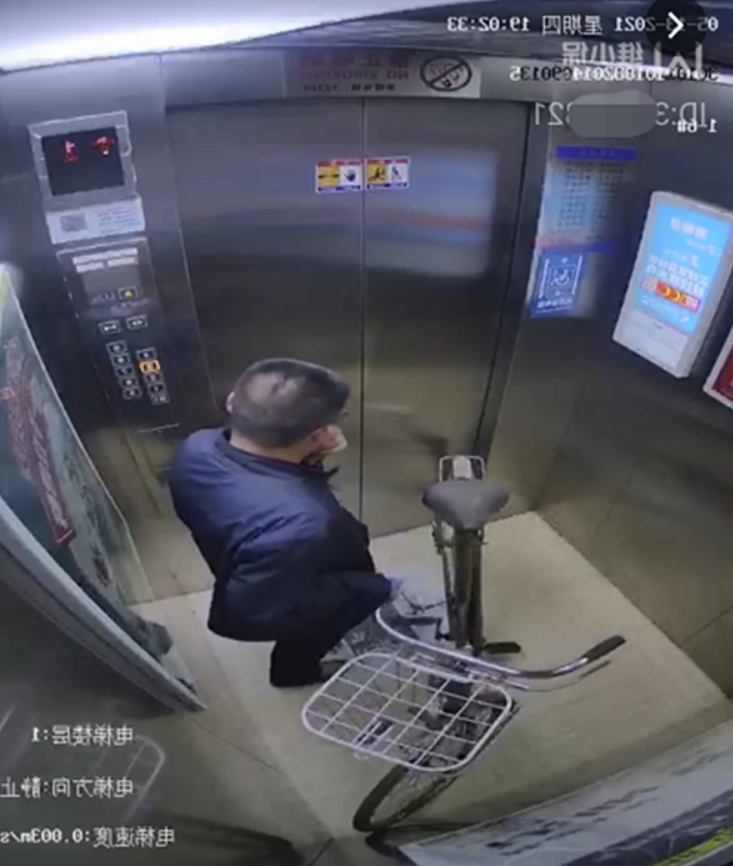person: (177, 351, 383, 685)
